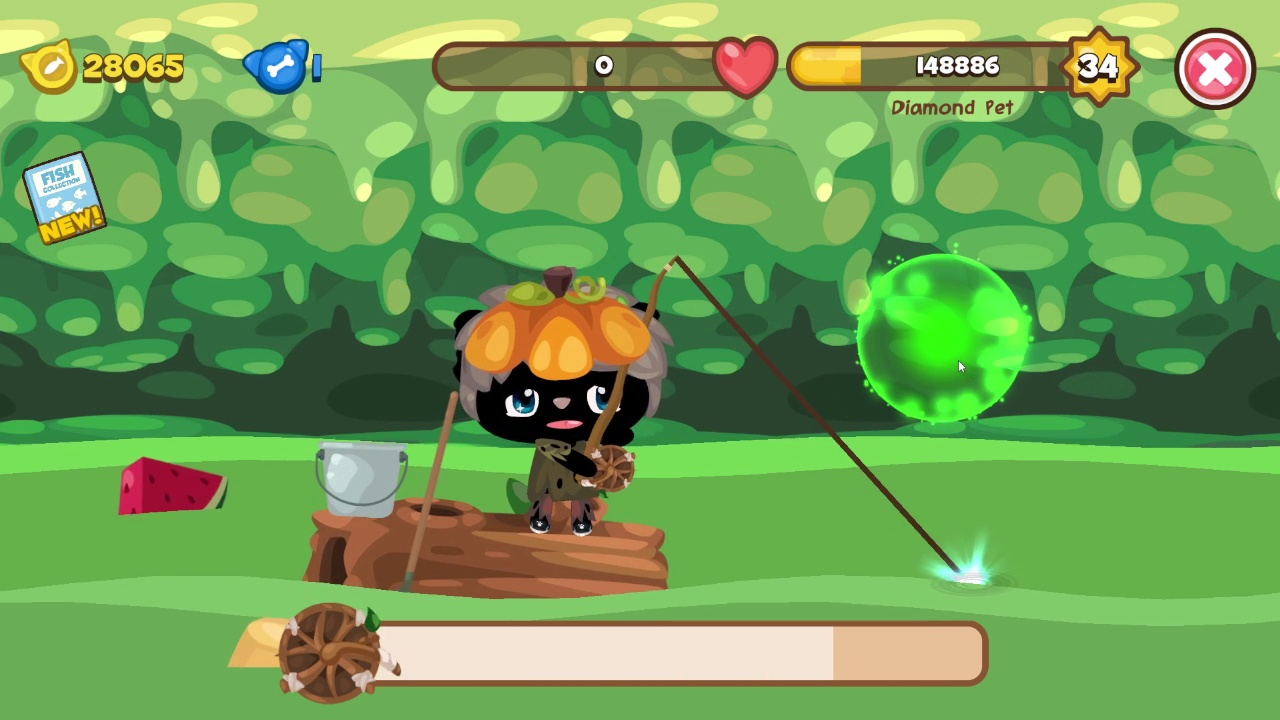point: (855, 252, 1030, 423)
